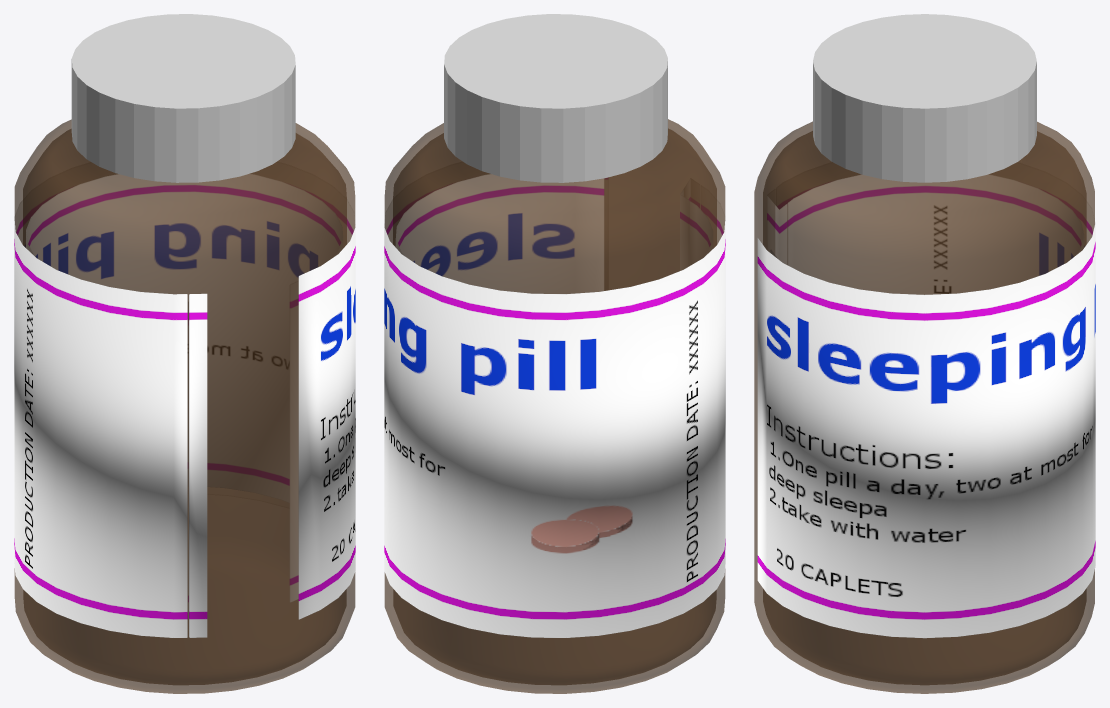
Rendered from pill_box 1.fbx.
3 renders of one model, left to right at view 1: azimuth 30°, elevation 25°; view 2: azimuth 150°, elevation 25°; view 3: azimuth 270°, elevation 25°, orthographic.
Visible parts, largest first — view 1: Circle.002, Circle, Circle.001; view 2: Circle.002, Circle, Circle.001; view 3: Circle.002, Circle, Circle.001.
Boxes of the visible parts, <box> form: Circle.002: <box>14,173,355,637</box>; Circle: <box>14,119,355,693</box>; Circle.001: <box>71,14,295,182</box>; Circle.002: <box>384,174,725,637</box>; Circle: <box>384,119,725,693</box>; Circle.001: <box>444,14,667,182</box>; Circle.002: <box>757,174,1095,638</box>; Circle: <box>754,121,1094,693</box>; Circle.001: <box>813,14,1036,182</box>.
Size of the model in its own units: 395 by 726 by 394.
